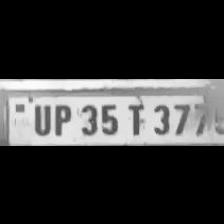3: (148, 99, 172, 135), (76, 100, 98, 136)
5: (97, 99, 121, 135)
7: (189, 98, 209, 136), (170, 99, 190, 135)
P: (51, 100, 74, 136)
T: (122, 99, 148, 135)
U: (28, 100, 52, 136)
